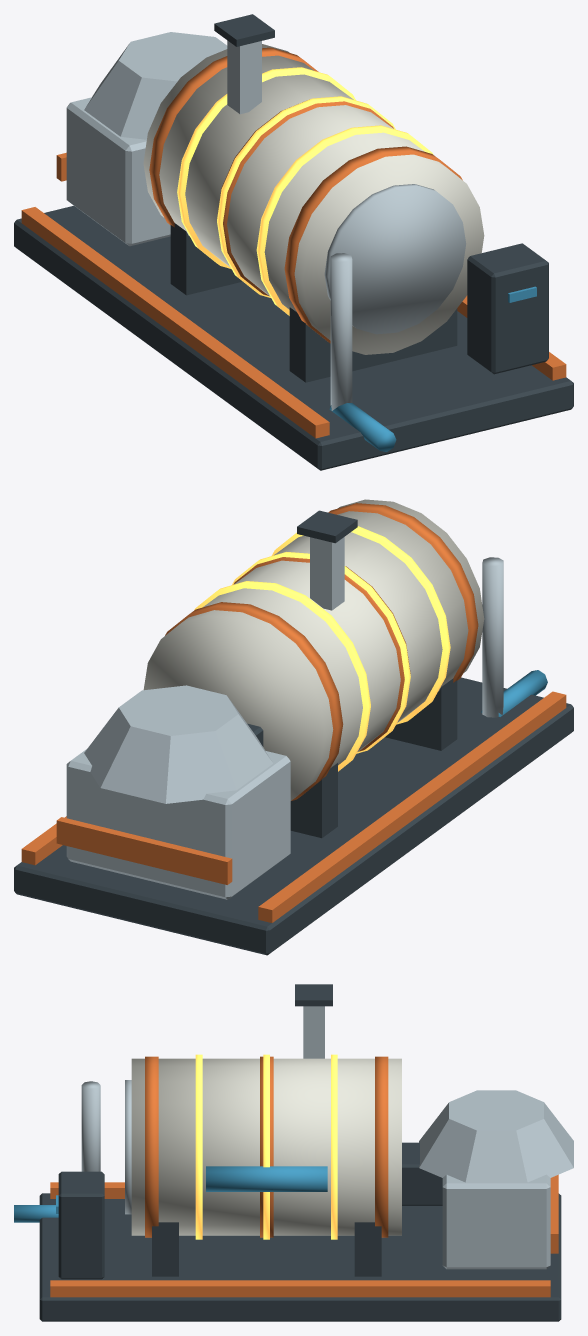
File: melter.glb
3 renders of one model, top to bottom at view 1: azimuth 30°, elevation 25°; view 2: azimuth 150°, elevation 25°; view 3: azimuth 270°, elevation 25°, orthographic. The views are drawn at different scales.
Parts seen in each view (by area): view 1: Melter, Heater; view 2: Melter, Heater; view 3: Melter, Heater.
Boxes of the visible parts, x1=… form: Melter: x1=14, y1=14, x2=573, y2=470; Heater: x1=177, y1=67, x2=433, y2=315; Melter: x1=14, y1=499, x2=573, y2=955; Heater: x1=194, y1=526, x2=450, y2=771; Melter: x1=14, y1=984, x2=573, y2=1321; Heater: x1=195, y1=1054, x2=337, y2=1239.
Bounding box in the file's own units: 1.86 × 2.12 × 4.14.
